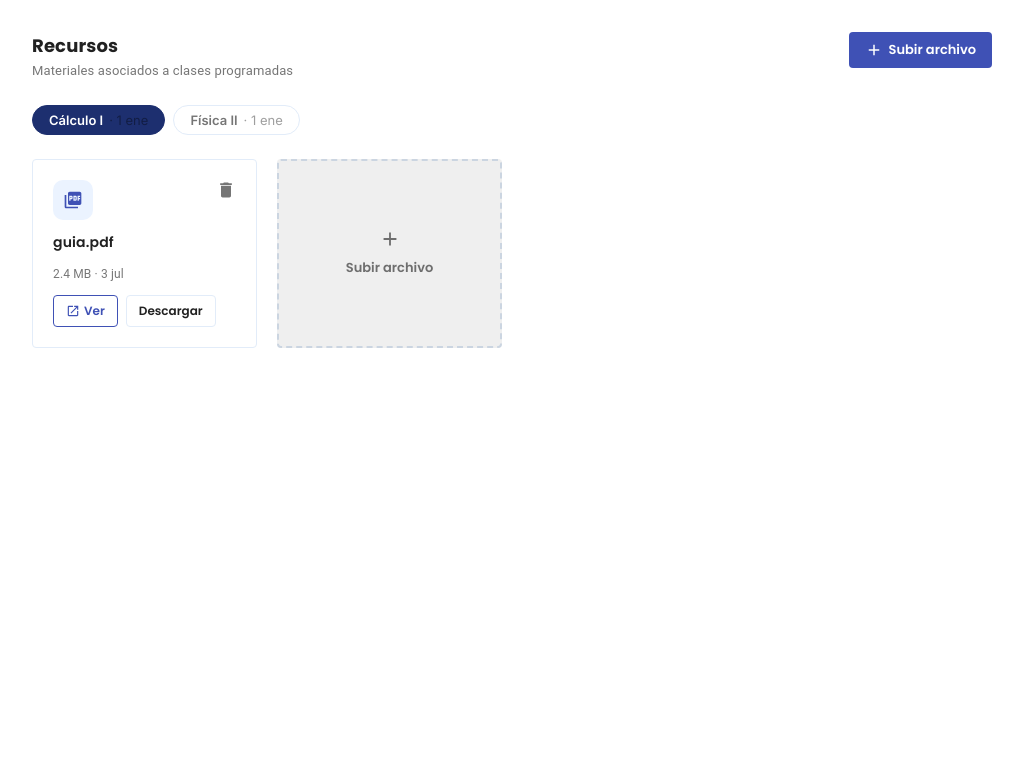
the ResourcesTab component › deletes a resource after confirming, removing it from the grid
The image size is (1024, 768).
Click the button with test id "dashboard-resource-delete": (226, 190) [216, 180, 236, 200]
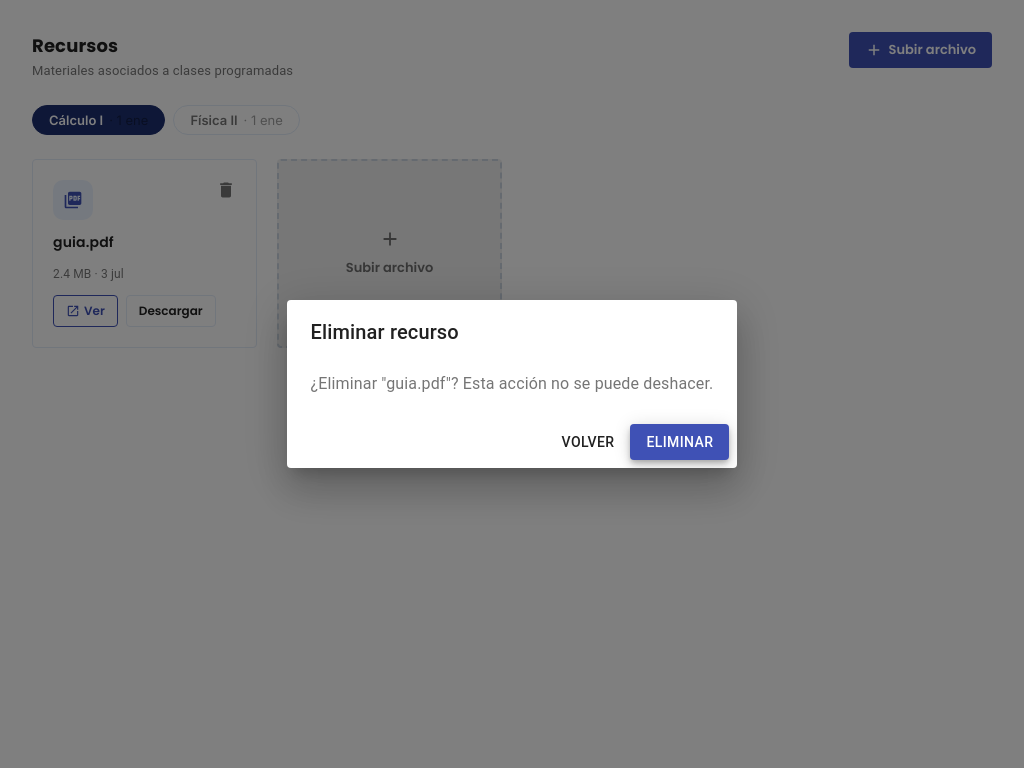
Click the button with test id "dashboard-confirm-dialog-confirm": (680, 442) [630, 424, 730, 460]
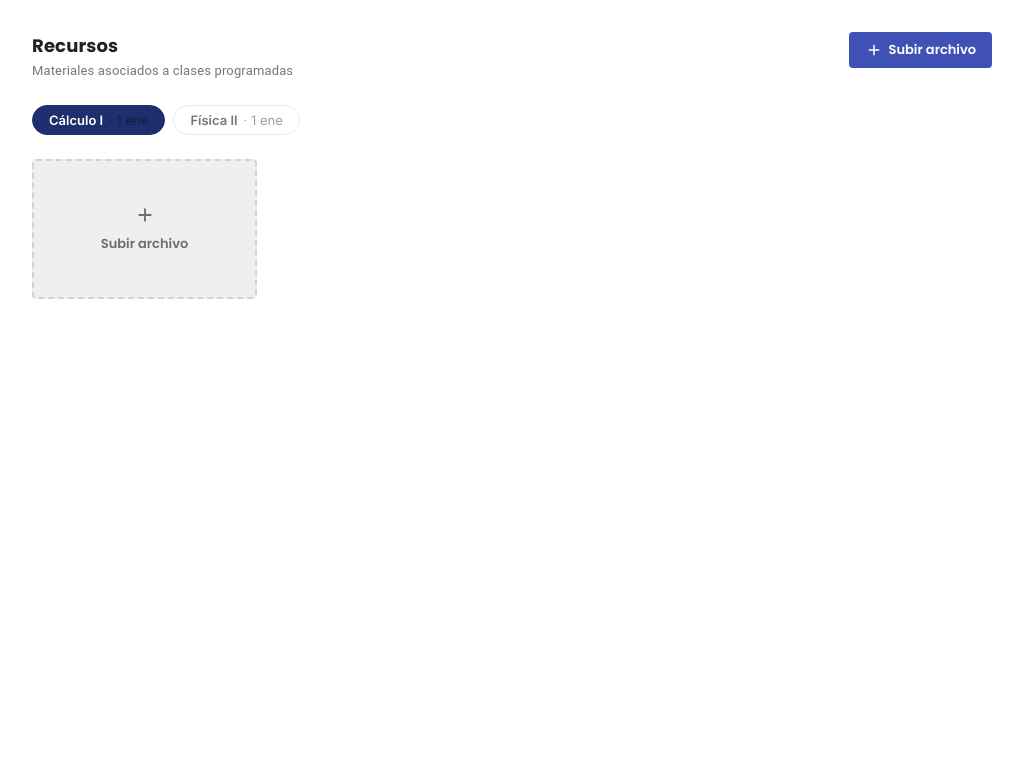
Result: the element with test id "dashboard-resource-file-file-a" is gone
